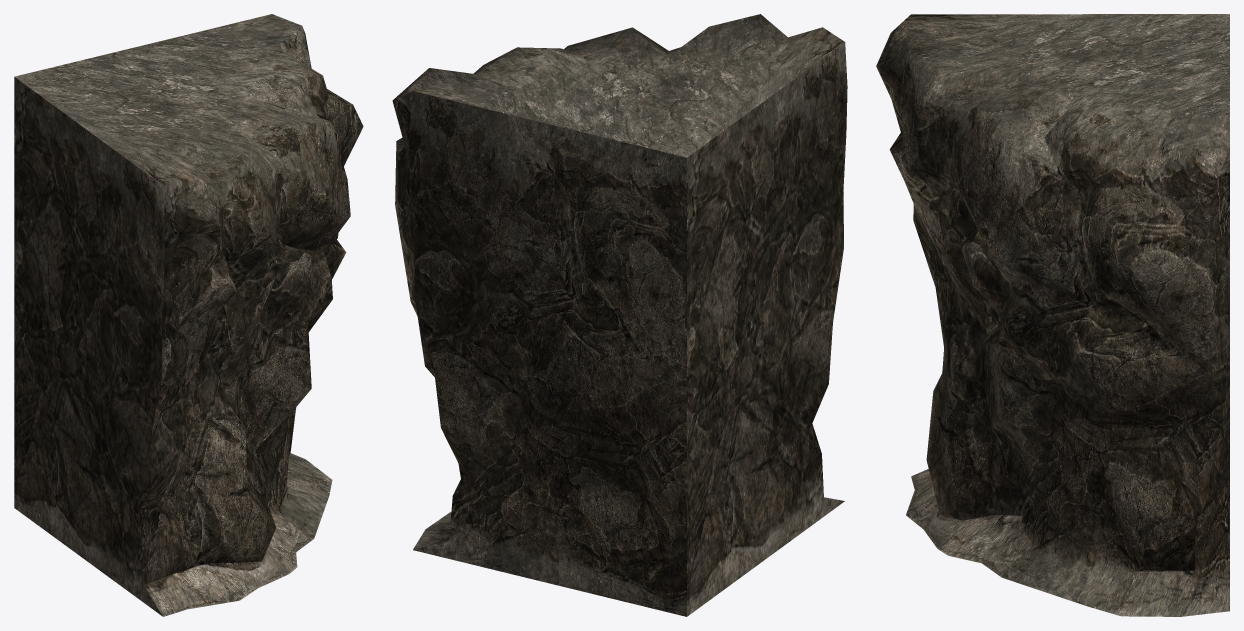
The model's file is SM_Env_Fire_Cliffs_CliffWall_01b.FBX.
3 renders of one model, left to right at view 1: azimuth 30°, elevation 25°; view 2: azimuth 150°, elevation 25°; view 3: azimuth 270°, elevation 25°, orthographic. The views are drawn at different scales.
Parts seen in each view (by area): view 1: SM_Env_Fire_Cliffs_CliffWall_01b; view 2: SM_Env_Fire_Cliffs_CliffWall_01b; view 3: SM_Env_Fire_Cliffs_CliffWall_01b.
Boxes of the visible parts, box(x1,y1,x2,y2) form: SM_Env_Fire_Cliffs_CliffWall_01b: box(14, 14, 363, 616); SM_Env_Fire_Cliffs_CliffWall_01b: box(392, 14, 847, 616); SM_Env_Fire_Cliffs_CliffWall_01b: box(876, 14, 1229, 616).
Size of the model in its own units: 756 by 710 by 1039.
